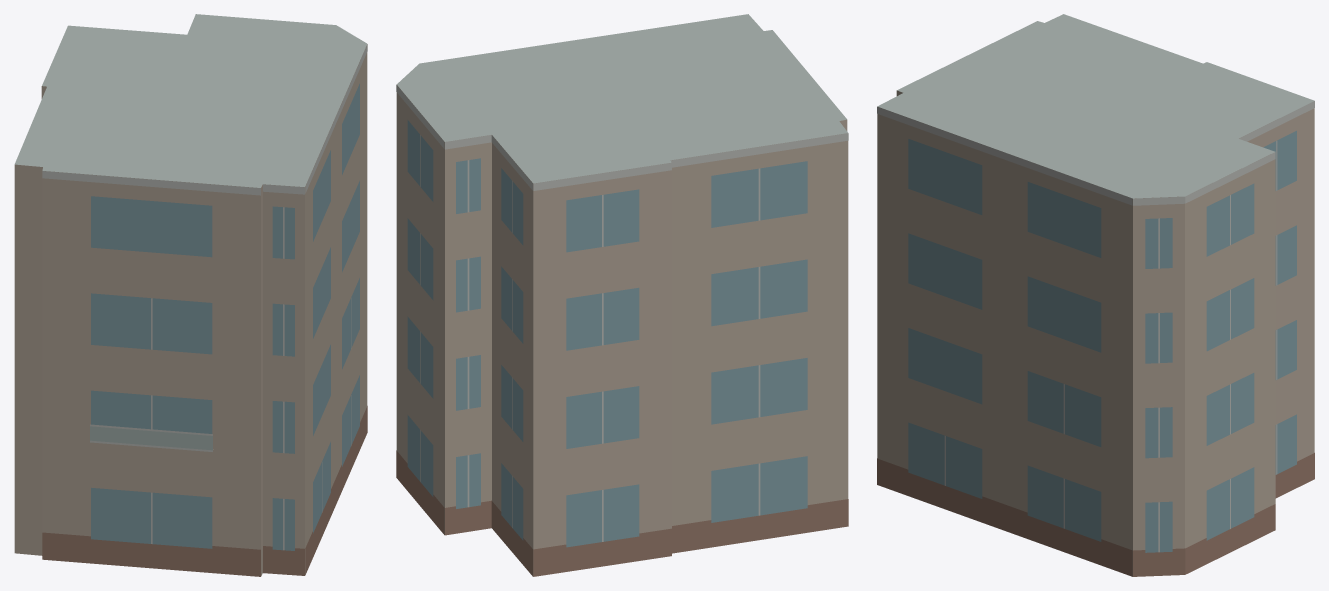
The model's file is survey-upis-32609596.glb.
3 views of the same model, side by side, from view 1: azimuth 30°, elevation 25°; view 2: azimuth 150°, elevation 25°; view 3: azimuth 270°, elevation 25° (orthographic). The views are drawn at different scales.
Visible parts, largest first — view 1: survey-upis-32609596.tmp; view 2: survey-upis-32609596.tmp; view 3: survey-upis-32609596.tmp.
Part boxes in pixels (x1,y1,x2,y2): survey-upis-32609596.tmp: (14,14,367,576); survey-upis-32609596.tmp: (396,14,848,576); survey-upis-32609596.tmp: (877,14,1314,576).
Size of the model in its own units: 13.24 by 12.65 by 13.27.
